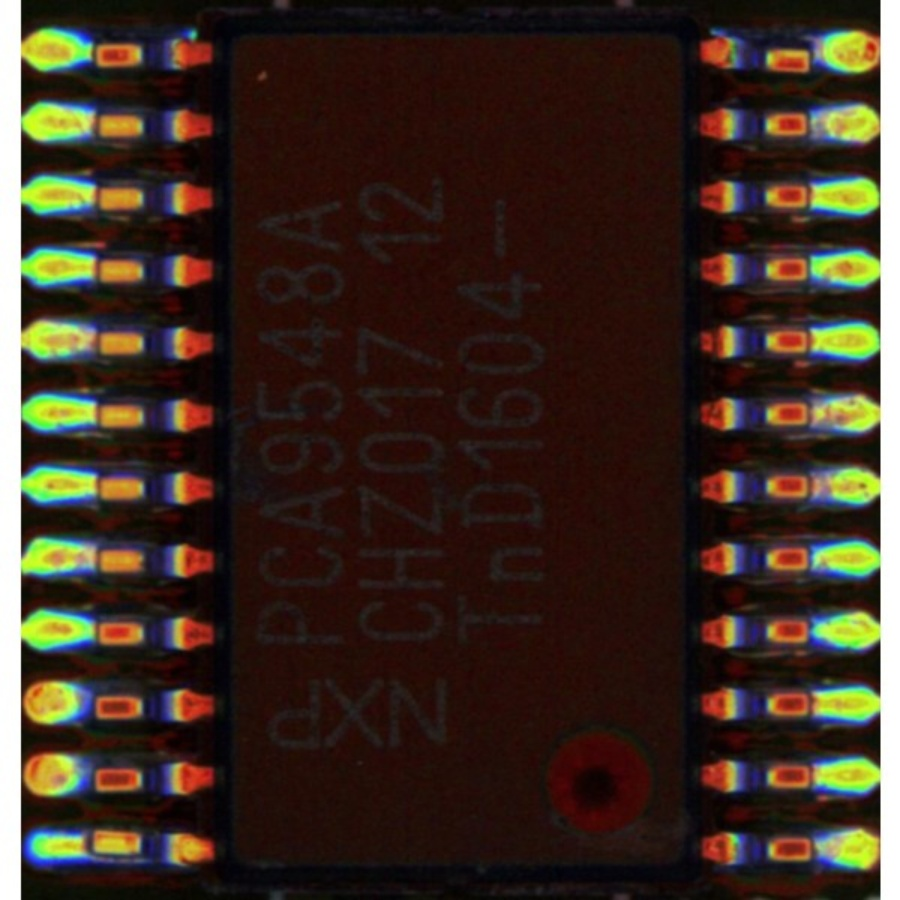Bad_podu: (68, 548, 124, 568), (792, 404, 842, 426), (789, 692, 837, 714), (789, 478, 840, 496), (62, 842, 102, 854)
Bad_qiaojiao: (91, 855, 156, 866)
